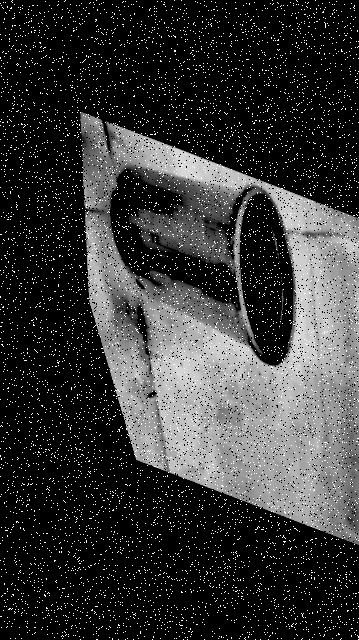pot: (110, 166, 295, 365)
